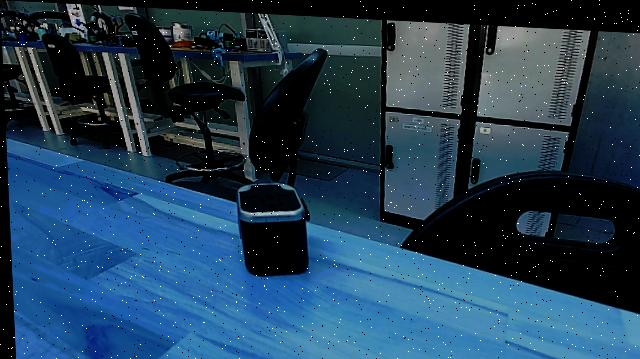adapter: (219, 169, 316, 281)
